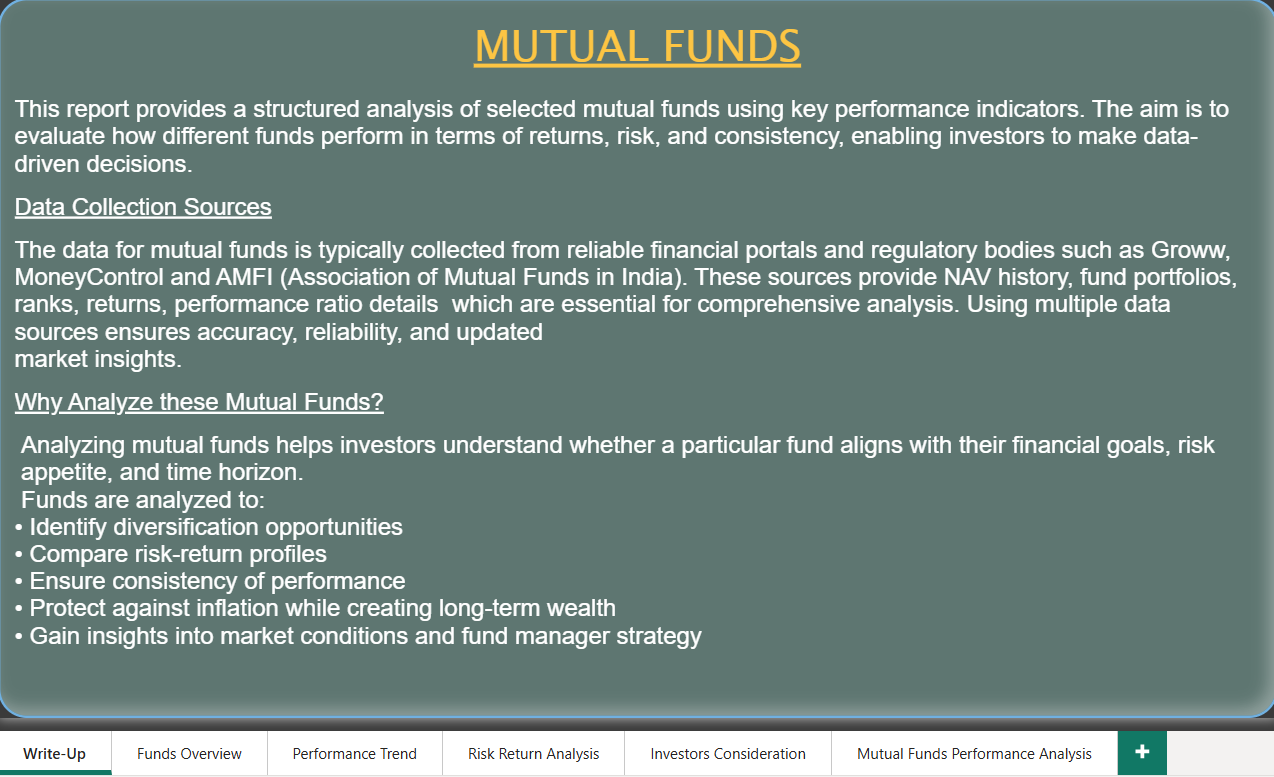

What the dashboard file says about the page in this screenshot:
{"tool":"powerbi","page":{"name":"Write-Up","canvas":[1280,720],"ordinal":0},"visuals":[{"type":"textbox","box":[0,0,1280,720],"z":0}]}

Visuals, with their boxes on the page's 1280x720 design canvas (x1, y1, x2, y2). These are canvas units, not pixel positions in the 1274x777 screenshot, which may show the page scaled, cropped or inside an application window:
textbox: <region>0, 0, 1280, 720</region>
